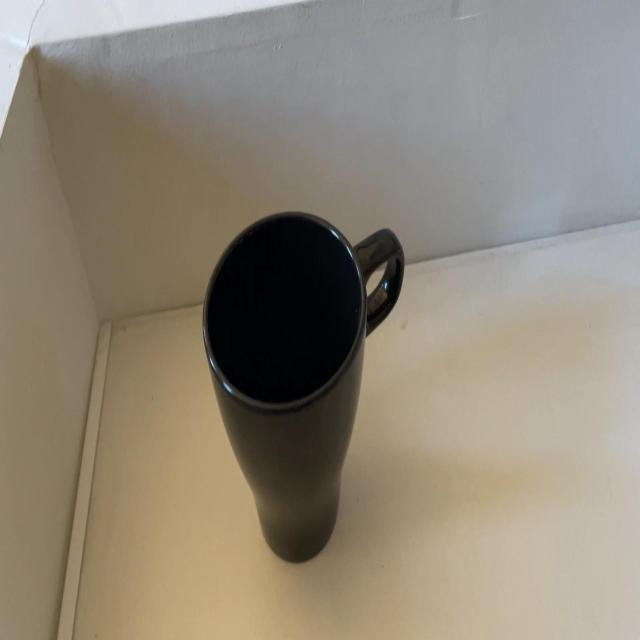cup: (188, 206, 406, 564)
